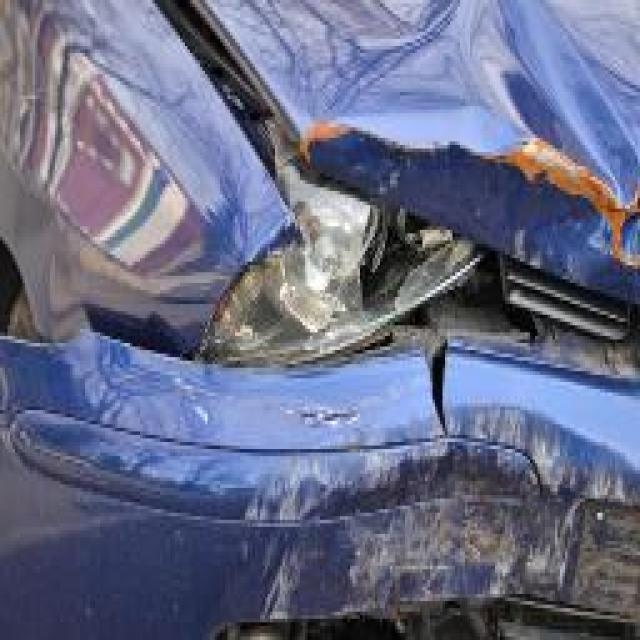Bonnet: (232, 4, 640, 219)
Bumper: (12, 343, 640, 640)
Light: (240, 194, 585, 385)
